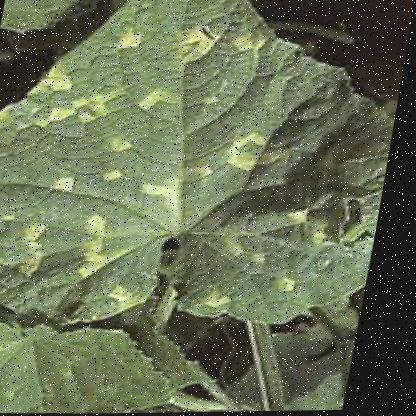DownyMildew: (0, 135, 396, 323), (0, 194, 367, 318), (23, 65, 349, 186), (17, 87, 295, 228), (73, 24, 267, 170)
